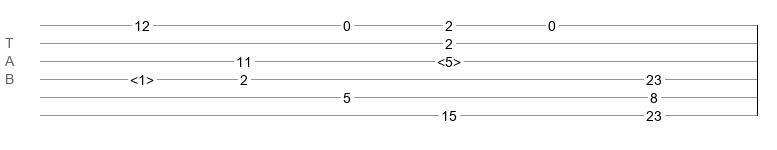0: (343, 18, 351, 28), (548, 18, 556, 28)
11: (236, 54, 252, 64)
12: (134, 18, 150, 28)
15: (441, 108, 457, 118)
2: (240, 72, 248, 82), (445, 18, 453, 28), (445, 36, 453, 46)
23: (646, 108, 662, 118), (646, 72, 662, 82)
5: (343, 90, 351, 100)
8: (650, 90, 658, 100)
harmonic: (130, 72, 154, 82), (437, 54, 461, 64)
